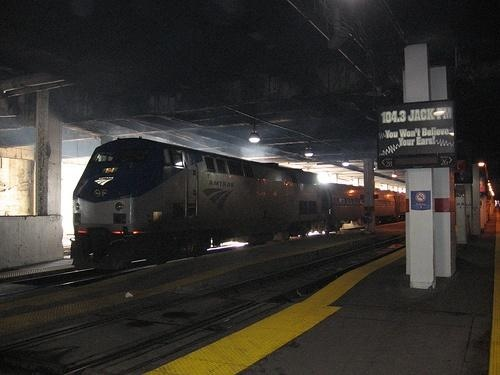train: (72, 138, 411, 269)
